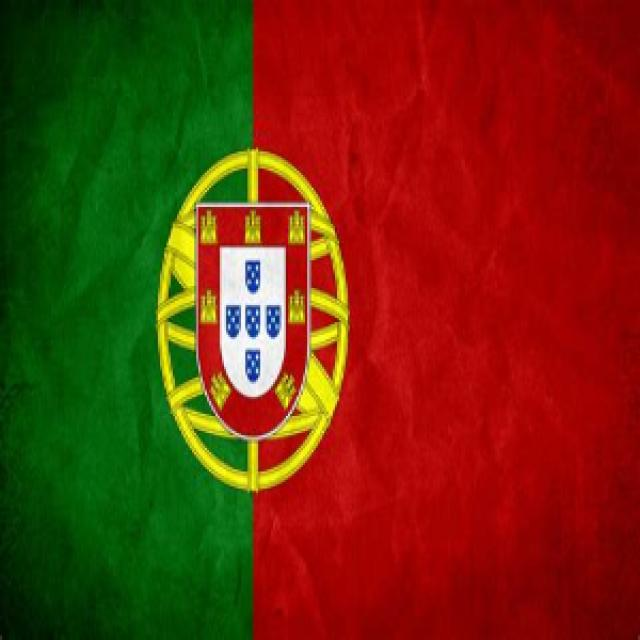portugal: (17, 5, 640, 632)
